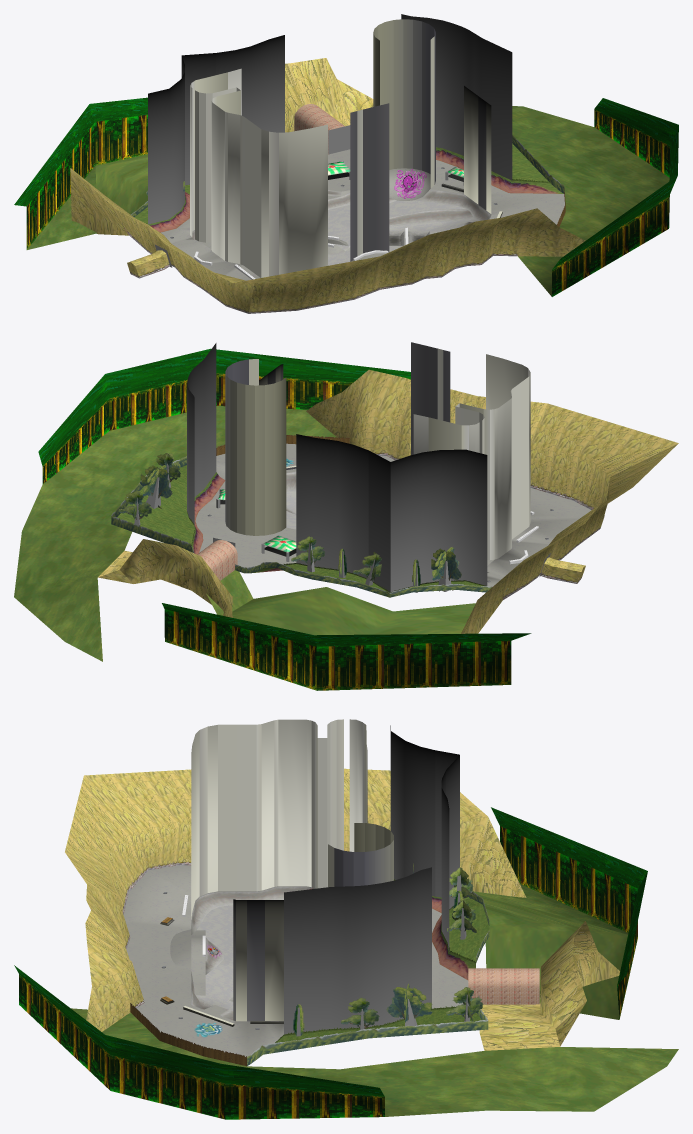
File: Suburban_SkatePark.FBX
The picture shows the model from 3 angles, top to bottom: view 1: azimuth 30°, elevation 25°; view 2: azimuth 150°, elevation 25°; view 3: azimuth 270°, elevation 25°; orthographic projection. The views are drawn at different scales.
Visible parts, largest first — view 1: Object02, Box01, Box02, jumpguides02, Jumpguides01, Cliff_01, Cliff_03, Cliff_02, Cliff_05, Cliff_06, Cliff_04, Grass08 (+4 smaller); view 2: Box01, Object02, Box02, jumpguides02, Cliff_03, Cliff_01, Cliff_06, Jumpguides01, Cliff_05, Grass07, Cliff_04, Grass06 (+8 smaller); view 3: Object02, Box01, Jumpguides01, Box02, jumpguides02, Cliff_06, Cliff_04, Cliff_05, Cliff_03, Cliff_01, Grass06, Box03 (+7 smaller).
Part boxes in pixels (<box>): Object02: <box>161,19,564,280</box>; Box01: <box>512,98,678,296</box>; Box02: <box>14,97,147,249</box>; jumpguides02: <box>148,35,284,224</box>; Jumpguides01: <box>401,14,512,180</box>; Cliff_01: <box>455,208,585,268</box>; Cliff_03: <box>233,256,379,313</box>; Cliff_02: <box>354,222,474,299</box>; Cliff_05: <box>70,168,174,278</box>; Cliff_06: <box>285,58,373,132</box>; Cliff_04: <box>148,225,254,313</box>; Grass08: <box>456,135,564,193</box>; Box01: <box>14,348,410,661</box>; Object02: <box>195,342,591,586</box>; Box02: <box>162,587,531,690</box>; jumpguides02: <box>296,434,487,591</box>; Cliff_03: <box>530,403,678,509</box>; Cliff_01: <box>306,369,410,460</box>; Cliff_06: <box>98,539,253,617</box>; Jumpguides01: <box>187,343,216,526</box>; Cliff_05: <box>461,504,600,633</box>; Grass07: <box>111,475,203,554</box>; Cliff_04: <box>549,443,678,560</box>; Grass06: <box>244,562,390,597</box>; Object02: <box>123,719,479,1056</box>; Box01: <box>14,965,678,1119</box>; Jumpguides01: <box>284,867,431,1034</box>; Box02: <box>472,807,647,1019</box>; jumpguides02: <box>390,725,459,951</box>; Cliff_06: <box>479,921,619,1050</box>; Cliff_04: <box>84,769,191,870</box>; Cliff_05: <box>344,768,526,897</box>; Cliff_03: <box>65,776,148,914</box>; Cliff_01: <box>85,910,144,1031</box>; Grass06: <box>432,891,489,980</box>; Box03: <box>468,968,539,1004</box>.
Size of what is drawn, in the model's own units: 22081 by 7257 by 20918.
